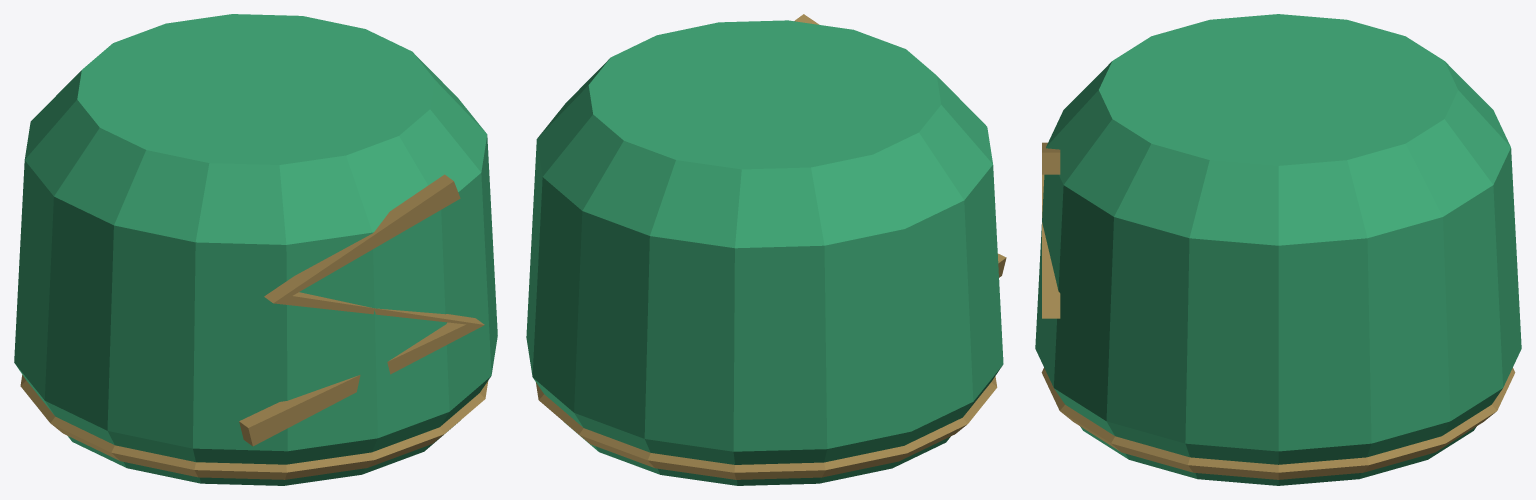
The model's file is round_dragon.obj.
The picture shows the model from 3 angles, left to right: view 1: azimuth 30°, elevation 25°; view 2: azimuth 150°, elevation 25°; view 3: azimuth 270°, elevation 25°; orthographic projection.
Visible parts, largest first — view 1: round_dragon_body, round_body_foot, dragon_coil, dragon_coil_edge; view 2: round_dragon_body, round_body_foot; view 3: round_dragon_body, round_body_foot, dragon_coil_edge.
Boxes of the visible parts, bbox=[...] form: round_dragon_body: bbox=[14, 14, 497, 485]; round_body_foot: bbox=[20, 375, 488, 479]; dragon_coil: bbox=[248, 181, 484, 446]; dragon_coil_edge: bbox=[239, 174, 484, 446]; round_dragon_body: bbox=[526, 20, 1003, 485]; round_body_foot: bbox=[536, 376, 997, 479]; round_dragon_body: bbox=[1035, 14, 1521, 485]; round_body_foot: bbox=[1041, 368, 1515, 479]; dragon_coil_edge: bbox=[1042, 142, 1060, 318].
Size of the model in its own units: 0.92 by 0.64 by 0.92.
